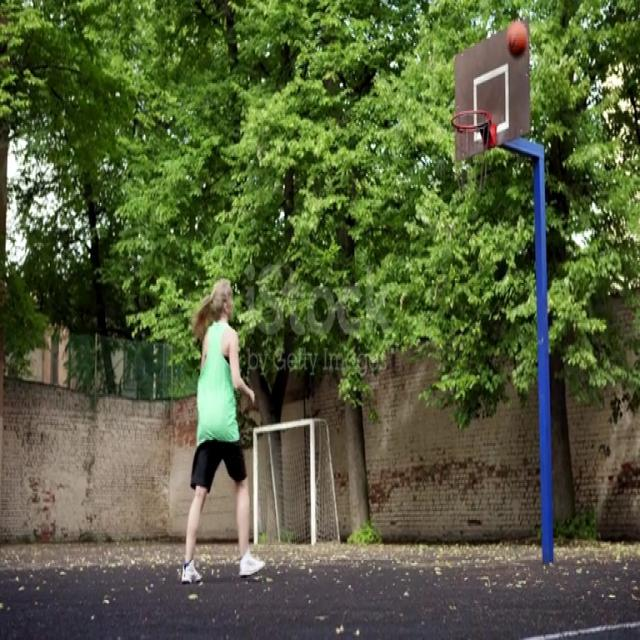ball: (506, 19, 527, 55)
